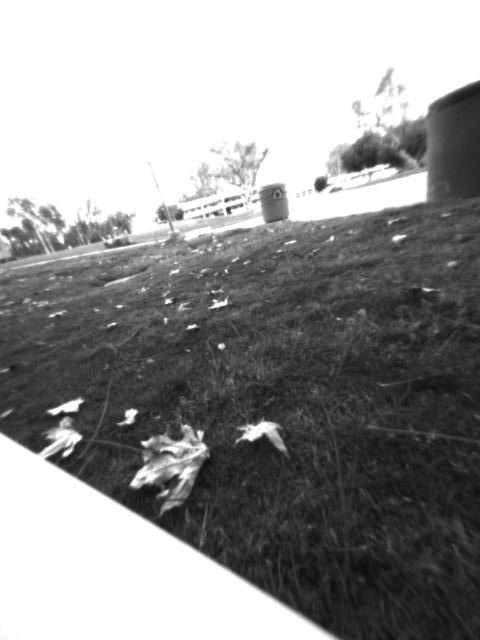trashcan: (254, 181, 292, 225)
